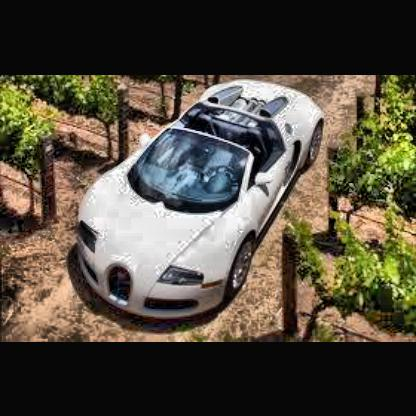Bugatti Veyron 16-4 Convertible 2009: (81, 81, 327, 320)
